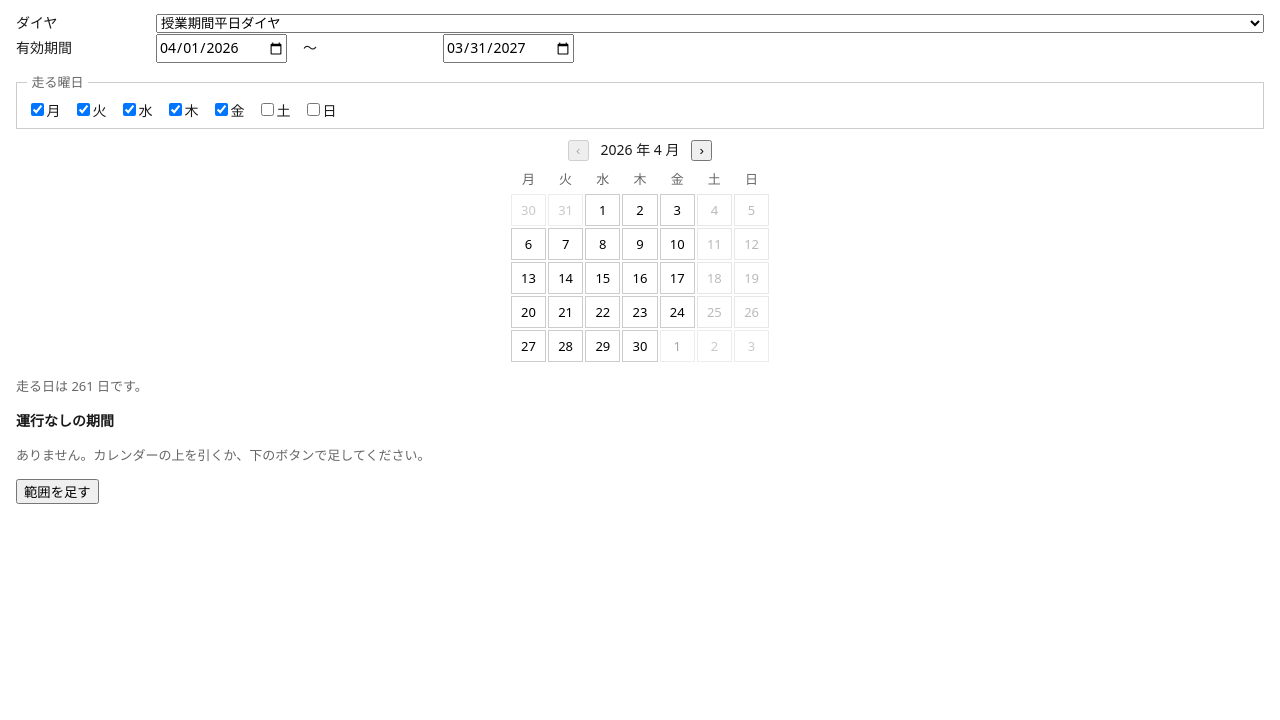
Scenario: 月送り（§4.5.2） › 期間の中では送れる
The width and height of the screenshot is (1280, 720).
Click the button named "次の月" at x=702, y=150, box [692,140,712,161]
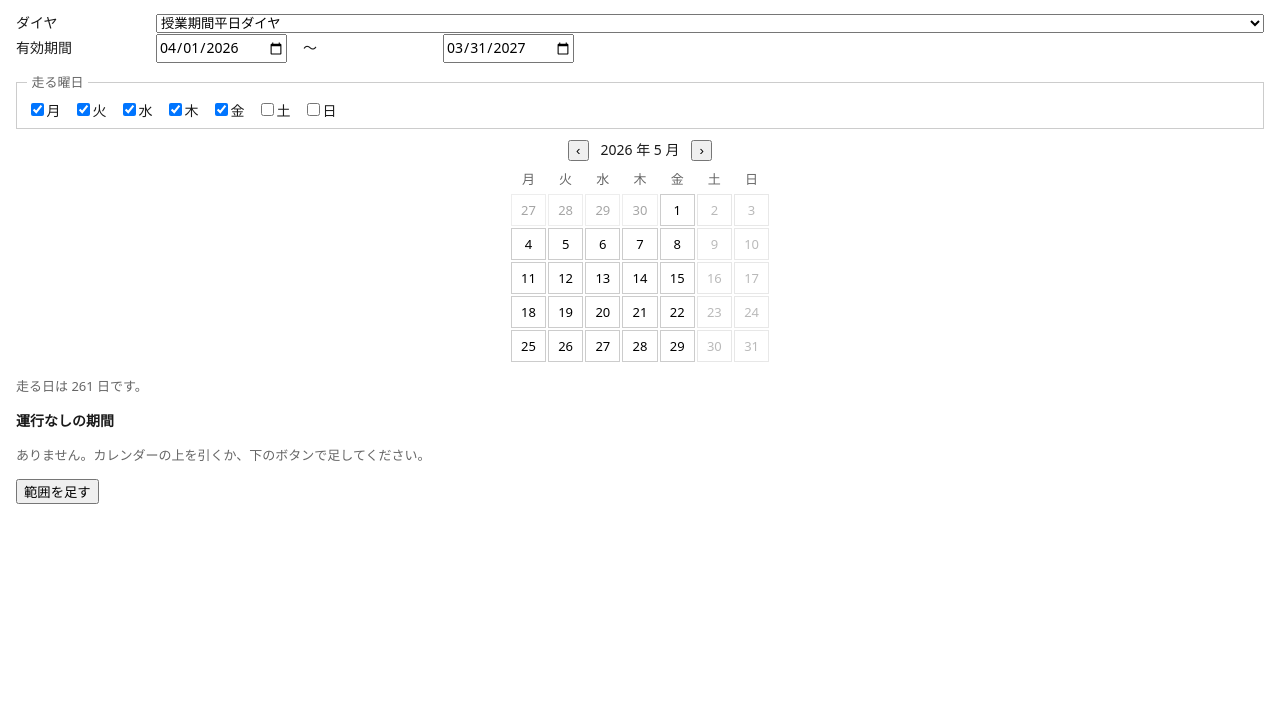
Expected: the text "2026 年 5 月" is shown, [600,139,680,161]
